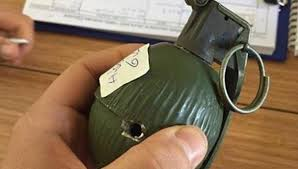e1: (83, 1, 271, 168)
